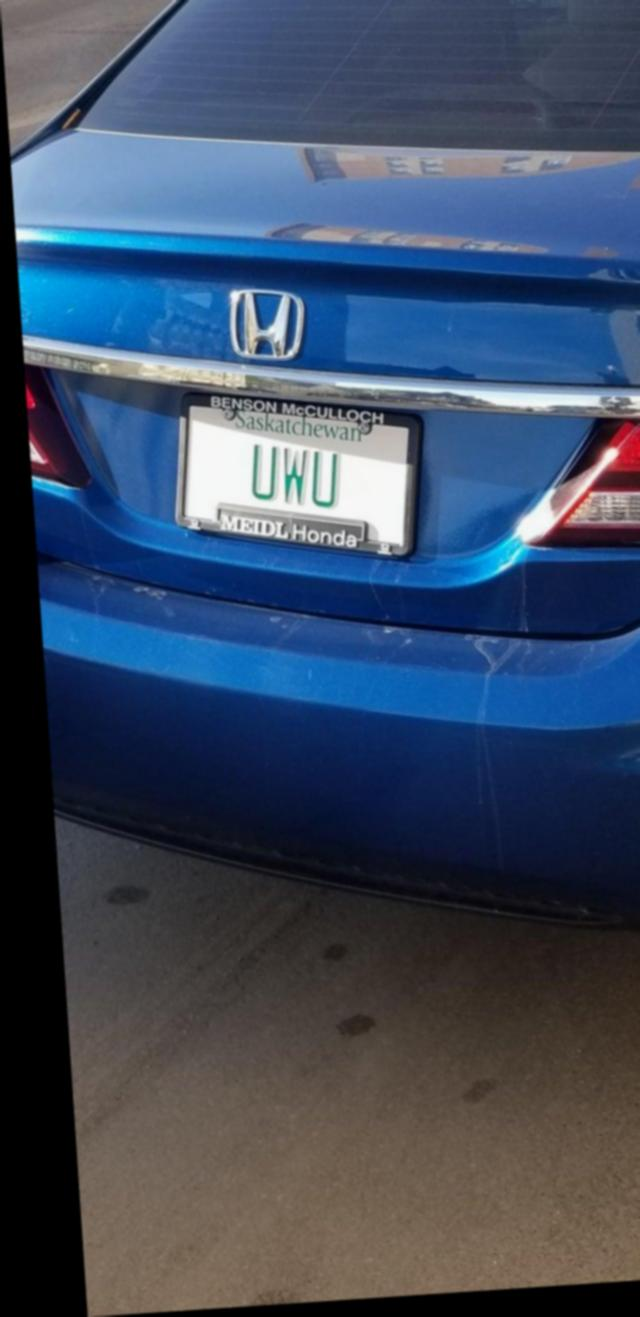License_Plate: (156, 343, 470, 613)
